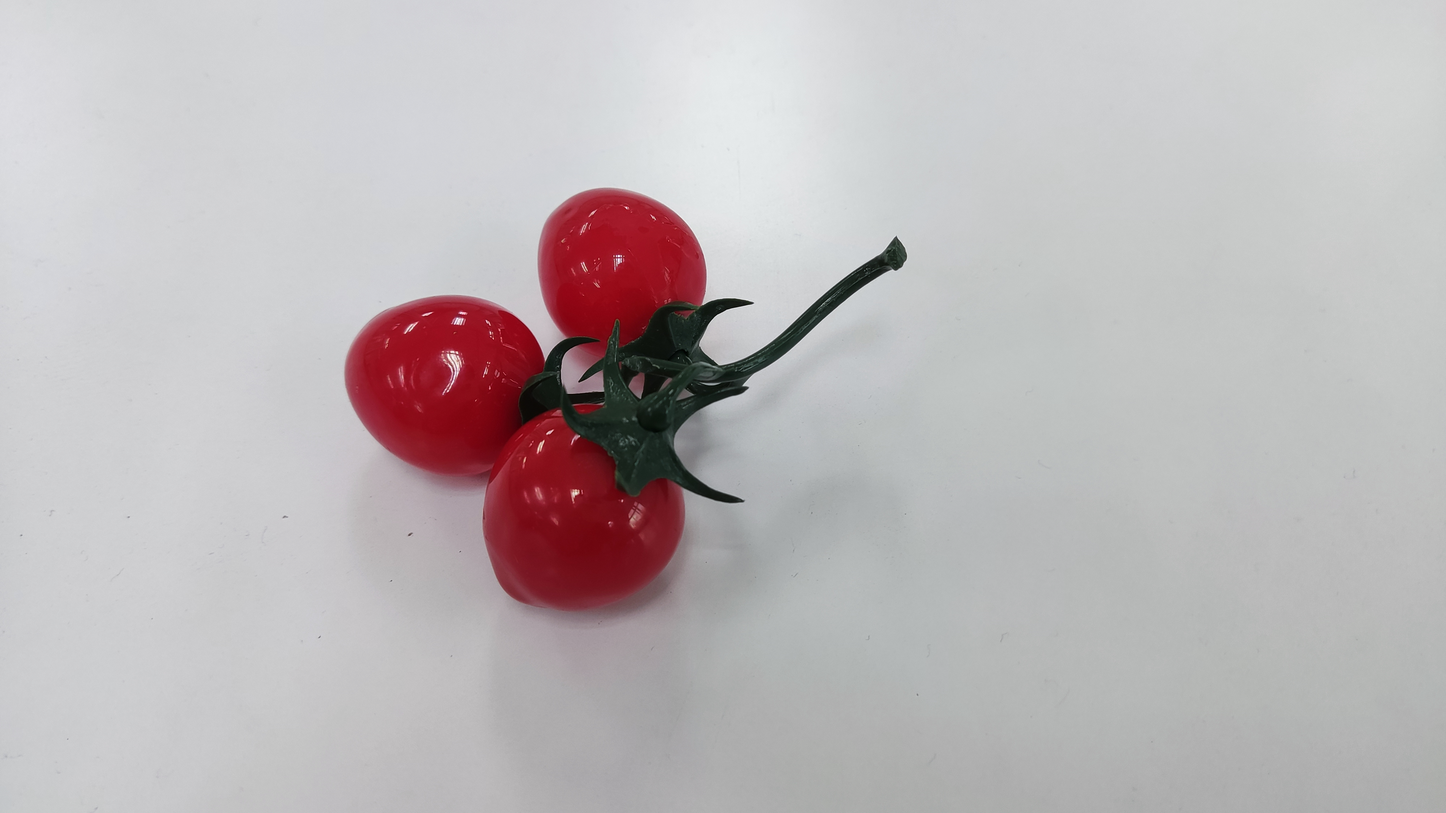peduncle: (746, 256, 886, 374)
strawberry: (482, 408, 684, 610), (344, 294, 543, 474), (538, 186, 706, 353)
